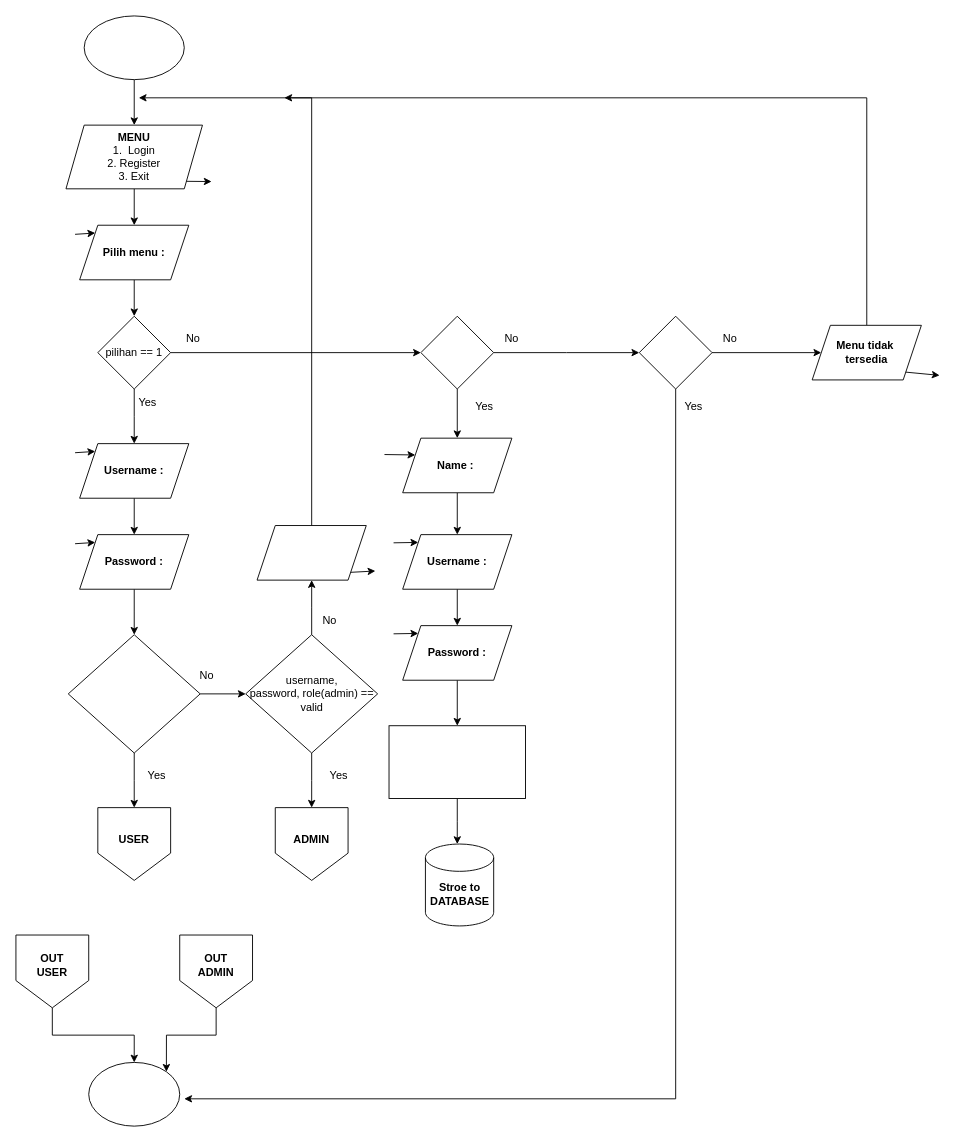
Some shapes in this 963 by 1142 pixel diagram are drawn without their labels. The shapes that lost their labels are listed below. From the top down, each one's box as (x1, y1, x2, y2) in pixels, then its label:
(83, 15, 184, 80): start
(420, 315, 494, 389): pilihan == 2
(638, 315, 712, 389): pilihan == 3
(256, 525, 366, 580): username atau password salah
(67, 634, 200, 753): username, password, role(user) == valid
(388, 725, 526, 799): Store Name, Username dan Password
(88, 1062, 180, 1126): end
